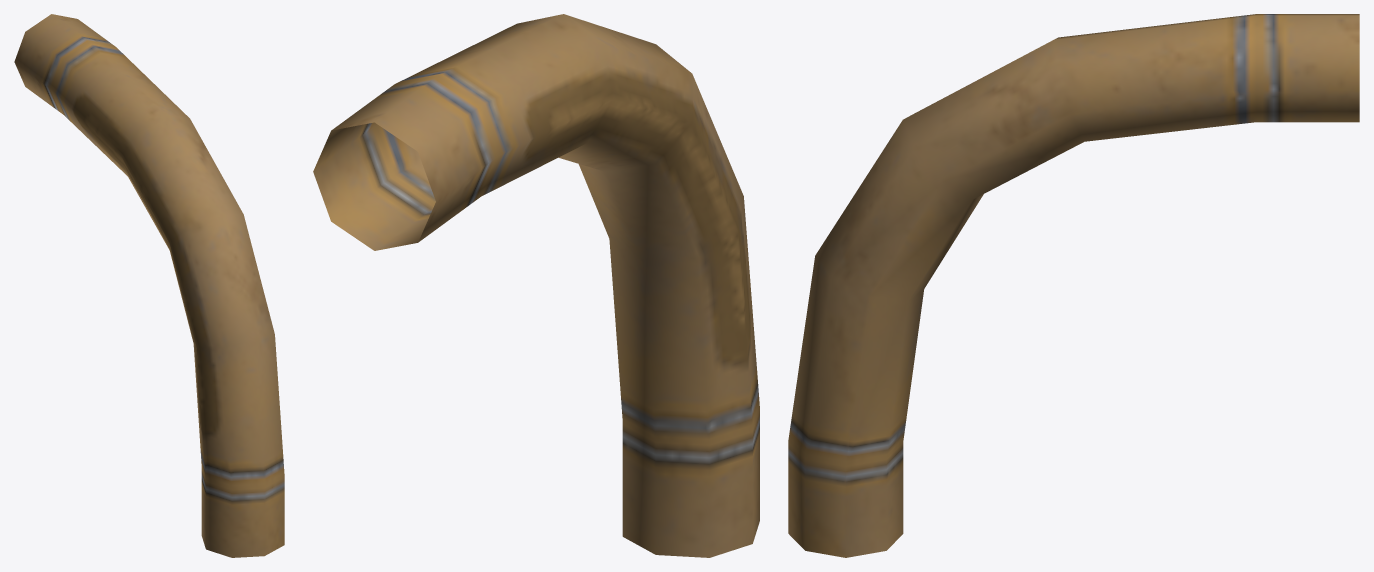
File: CP_Pipe_D_Angle.fbx
The picture shows the model from 3 angles, left to right: view 1: azimuth 30°, elevation 25°; view 2: azimuth 150°, elevation 25°; view 3: azimuth 270°, elevation 25°; orthographic projection. The views are drawn at different scales.
Parts seen in each view (by area): view 1: CP_Pipe_D_Angle; view 2: CP_Pipe_D_Angle; view 3: CP_Pipe_D_Angle.
Part boxes in pixels (x1=…): CP_Pipe_D_Angle: x1=14, y1=14, x2=284, y2=557; CP_Pipe_D_Angle: x1=313, y1=14, x2=759, y2=557; CP_Pipe_D_Angle: x1=788, y1=14, x2=1359, y2=557.
Size of the model in its own units: 11.21 by 55.6 by 55.6.
